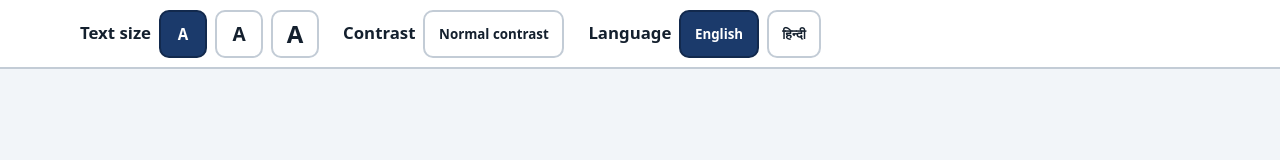
it: accessibility bar › switches the whole interface to Hindi and marks the document language
Click the button "हिन्दी": {"x": 794, "y": 34} [767,10,821,58]
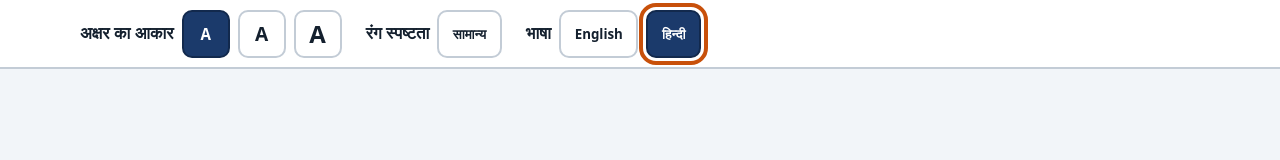
Check: the text "अक्षर का आकार" is shown, box [80,19,174,48]
